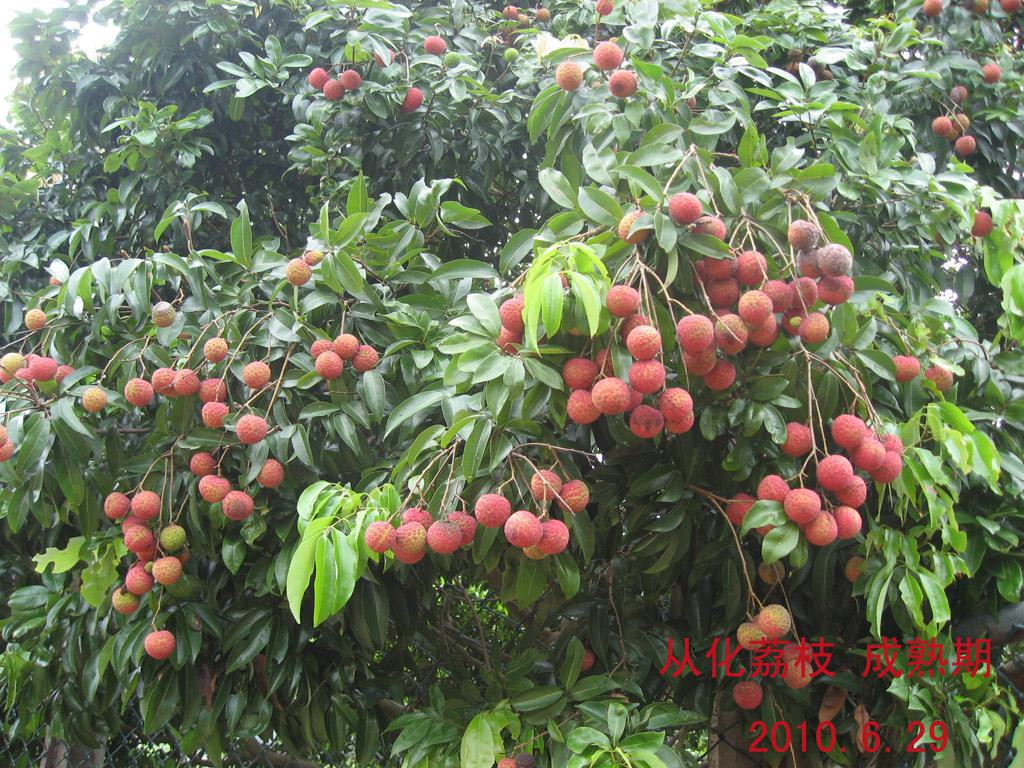果实发育期: (156, 519, 189, 554), (1, 350, 29, 381), (442, 49, 463, 70), (503, 46, 521, 64)
果实成熟期: (752, 450, 870, 549), (149, 366, 231, 431), (187, 449, 258, 522), (307, 328, 382, 382), (734, 599, 795, 653), (931, 112, 978, 158), (588, 374, 634, 417), (502, 508, 545, 551), (781, 484, 824, 527), (675, 311, 716, 355), (711, 311, 751, 356), (800, 507, 842, 549), (813, 452, 856, 493), (423, 515, 465, 556), (626, 357, 669, 396), (559, 352, 602, 391), (472, 489, 513, 529), (623, 323, 665, 362), (655, 384, 696, 423), (533, 516, 572, 557), (829, 411, 870, 450), (626, 401, 667, 440), (565, 387, 604, 427), (736, 286, 775, 326), (816, 241, 856, 280), (815, 271, 857, 308), (700, 352, 739, 391), (778, 419, 816, 459), (754, 601, 794, 639), (757, 278, 796, 316), (392, 517, 429, 557), (556, 474, 592, 515), (703, 273, 741, 311), (615, 206, 652, 244), (731, 248, 768, 286), (605, 283, 644, 319), (362, 516, 398, 555), (233, 409, 270, 446), (785, 274, 821, 312), (142, 624, 178, 661), (667, 189, 703, 226), (528, 466, 564, 503), (795, 309, 832, 345), (733, 615, 768, 653), (830, 503, 865, 541), (778, 657, 817, 691), (786, 275, 820, 313), (218, 488, 257, 521), (730, 677, 766, 712), (128, 487, 164, 522), (149, 552, 185, 587), (723, 491, 757, 528), (921, 360, 955, 396), (196, 472, 233, 505), (689, 213, 726, 244), (253, 456, 287, 489), (889, 351, 922, 385), (591, 39, 624, 73), (123, 563, 156, 597), (313, 348, 346, 381), (148, 364, 181, 397), (553, 56, 584, 91), (755, 472, 791, 502), (779, 637, 816, 666), (101, 489, 134, 521), (199, 396, 231, 429), (121, 522, 156, 552), (494, 325, 526, 357), (607, 68, 639, 100), (241, 359, 274, 390), (121, 375, 154, 406), (26, 353, 59, 384), (195, 375, 230, 404), (283, 256, 314, 288), (169, 366, 201, 397), (349, 342, 381, 373), (187, 450, 222, 478), (871, 452, 901, 484), (499, 295, 526, 330), (80, 383, 110, 414), (330, 331, 361, 361), (755, 557, 787, 586), (792, 217, 820, 250), (200, 334, 230, 364), (397, 86, 425, 113), (978, 59, 1005, 86), (966, 209, 994, 235), (842, 553, 866, 583), (23, 306, 49, 332), (337, 66, 363, 92), (320, 77, 347, 102), (307, 336, 336, 359), (1, 424, 17, 465), (306, 66, 332, 90), (953, 133, 978, 157), (423, 34, 447, 57), (930, 114, 954, 136), (371, 46, 395, 68), (950, 112, 973, 134), (580, 645, 598, 673), (948, 83, 969, 105), (959, 1, 992, 15), (922, 1, 945, 18), (501, 3, 520, 22), (494, 754, 519, 768), (533, 6, 552, 24), (594, 1, 615, 16), (999, 1, 1021, 15), (47, 274, 65, 288)
